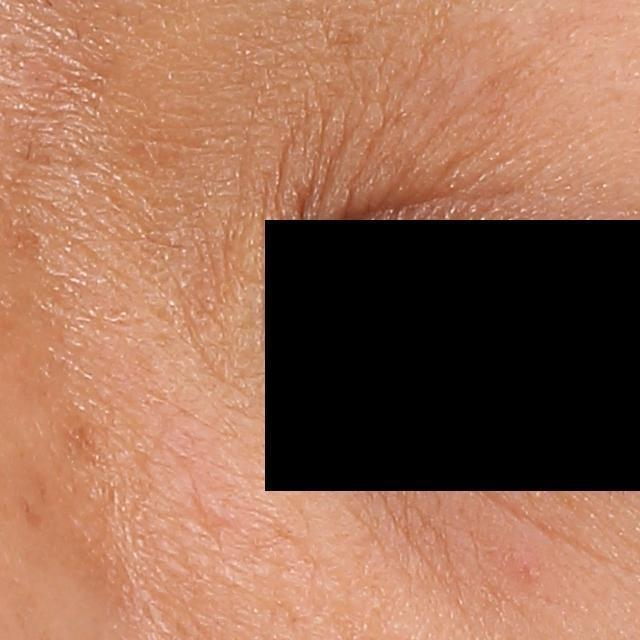melasma: (57, 410, 116, 476), (16, 491, 47, 530)
